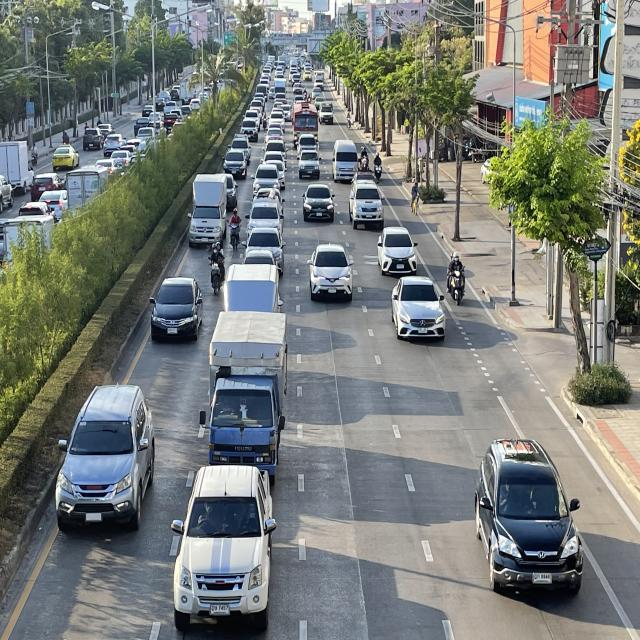bike: (204, 238, 226, 294), (446, 250, 465, 307), (228, 209, 241, 253), (373, 150, 383, 183), (359, 144, 369, 172)
car: (474, 434, 585, 597), (170, 463, 276, 632), (51, 380, 157, 533), (376, 224, 419, 273), (349, 174, 385, 231), (242, 229, 286, 273), (245, 202, 284, 238)
truck: (199, 311, 288, 491), (188, 171, 228, 247), (223, 266, 281, 316)
